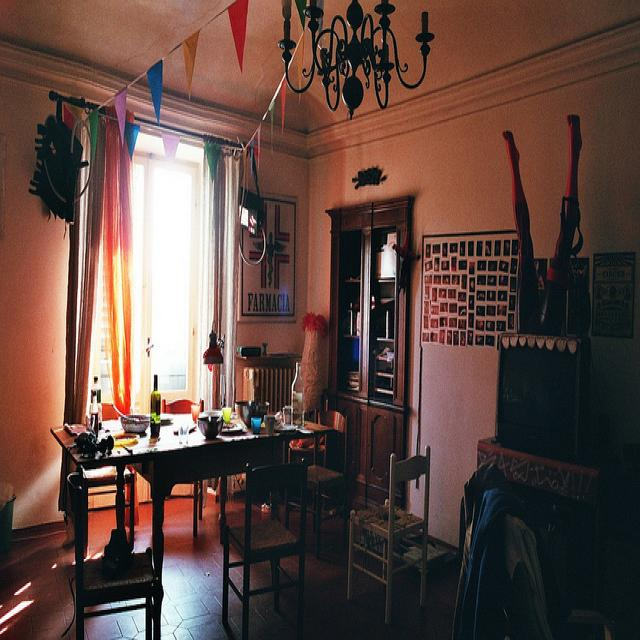chair: (453, 469, 612, 640), (221, 456, 314, 631), (345, 443, 436, 620), (65, 484, 154, 633), (311, 409, 349, 559), (81, 466, 135, 558), (160, 396, 205, 413), (101, 403, 119, 421)
dining table: (54, 407, 325, 467)
